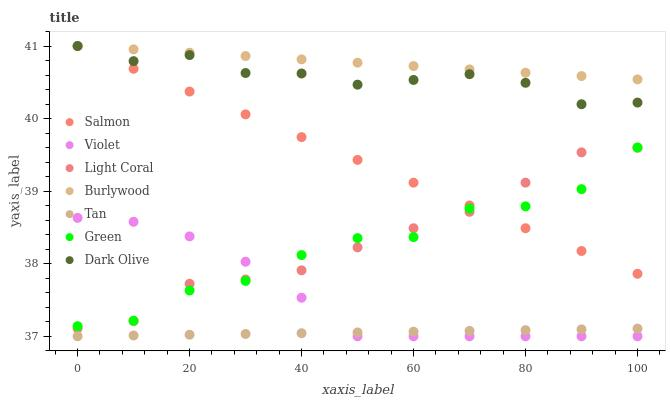axis: (54, 346, 670, 359), (43, 28, 52, 346)
legend: (49, 108, 169, 271)
point: (128, 314, 139, 329), (184, 285, 197, 295), (577, 182, 587, 194), (576, 72, 587, 82), (243, 254, 252, 266), (73, 42, 83, 52), (521, 202, 531, 212), (352, 232, 363, 241), (299, 328, 309, 337), (576, 147, 586, 156), (184, 232, 194, 241), (298, 133, 307, 142), (354, 244, 363, 253), (522, 68, 531, 77), (129, 56, 139, 64), (354, 154, 362, 164), (521, 178, 531, 186), (184, 331, 194, 339), (354, 58, 361, 69), (186, 87, 194, 96), (409, 332, 417, 341), (354, 327, 362, 336), (299, 294, 307, 303), (409, 223, 418, 231), (298, 71, 307, 79), (468, 70, 477, 78), (74, 319, 82, 328), (129, 46, 139, 53), (187, 49, 194, 58), (354, 335, 363, 342), (242, 68, 248, 78), (131, 66, 138, 74), (243, 111, 251, 118), (522, 225, 530, 232), (581, 246, 586, 257), (412, 178, 418, 187), (468, 204, 474, 213), (409, 77, 418, 83), (242, 276, 248, 284), (300, 267, 308, 273), (467, 327, 473, 334), (243, 330, 250, 336), (242, 54, 250, 59), (579, 327, 585, 332)
